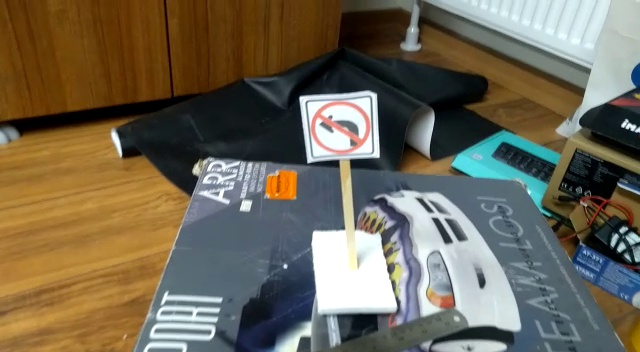sola_donulmez: (307, 99, 372, 155)
